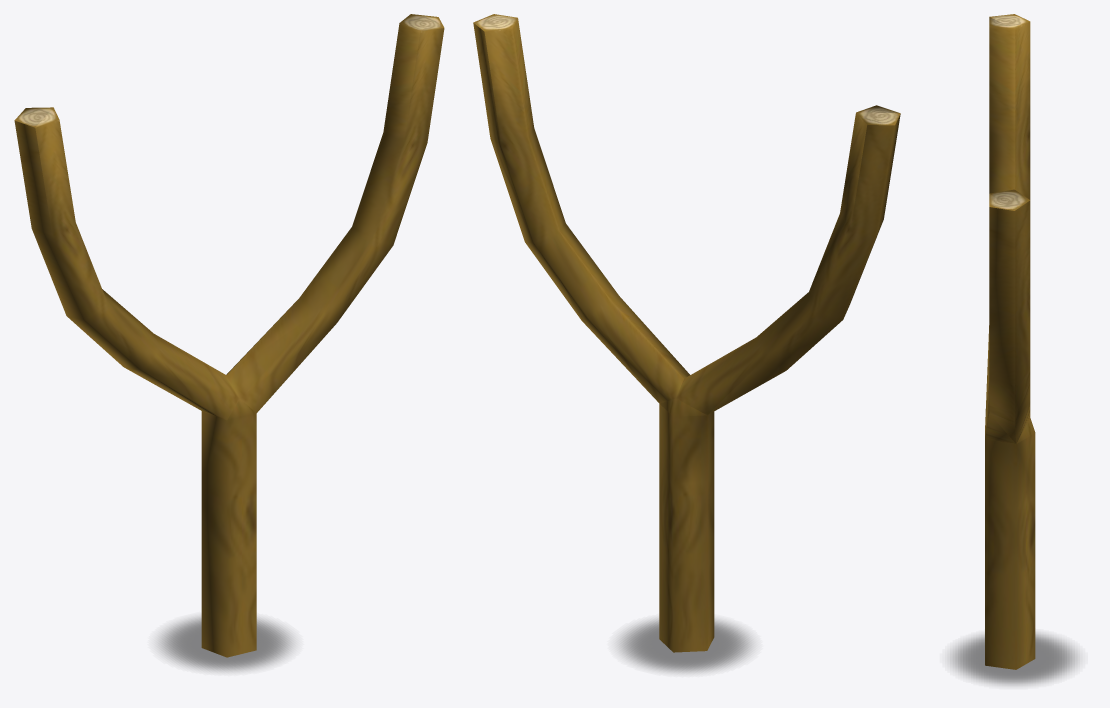
The model's file is slingshot_sling.glb.
3 views of the same model, side by side, from view 1: azimuth 30°, elevation 25°; view 2: azimuth 150°, elevation 25°; view 3: azimuth 270°, elevation 25° (orthographic). The views are drawn at different scales.
Parts seen in each view (by area): view 1: slingshot, shadow; view 2: slingshot, shadow; view 3: slingshot, shadow.
Part boxes in pixels (x1=…): slingshot: x1=14, y1=14, x2=444, y2=657; shadow: x1=158, y1=617, x2=292, y2=671; slingshot: x1=473, y1=14, x2=900, y2=652; shadow: x1=618, y1=619, x2=752, y2=672; slingshot: x1=985, y1=14, x2=1035, y2=669; shadow: x1=950, y1=633, x2=1077, y2=685.
Bounding box in the file's own units: 11.42 × 14.86 × 4.08.
Materials: 2 (2 with a texture image).
